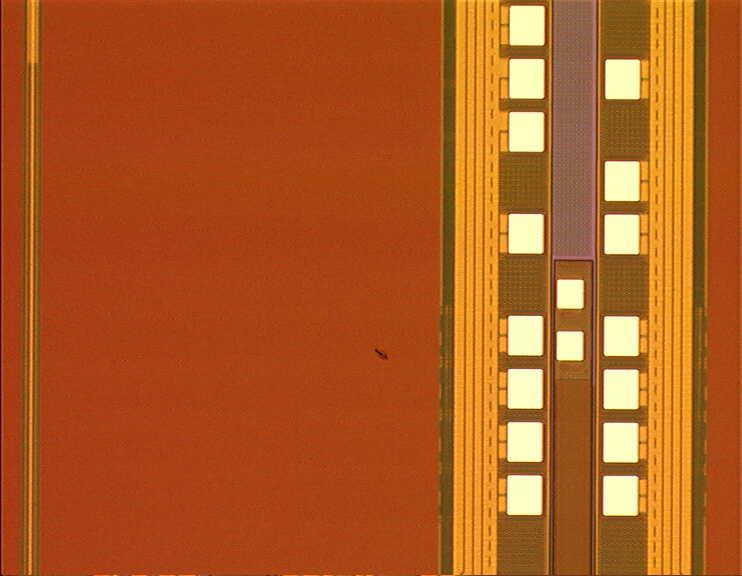PIQ PARTICLE: (370, 344, 393, 366)
